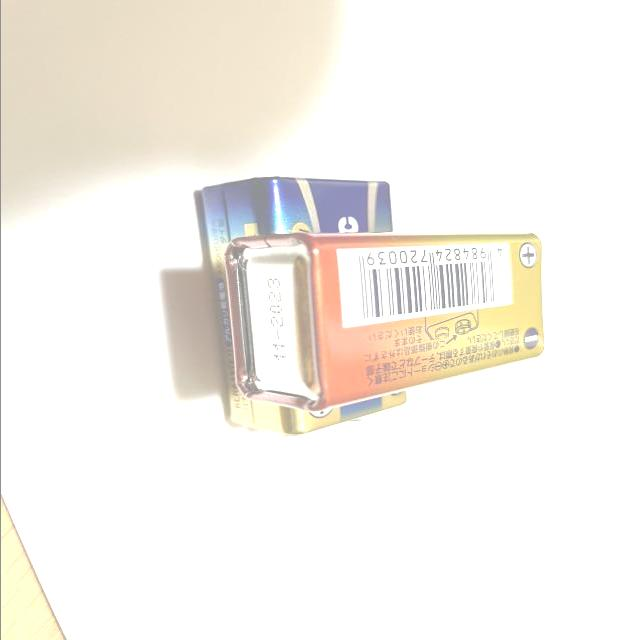9V: (225, 228, 545, 412), (198, 175, 409, 437)
